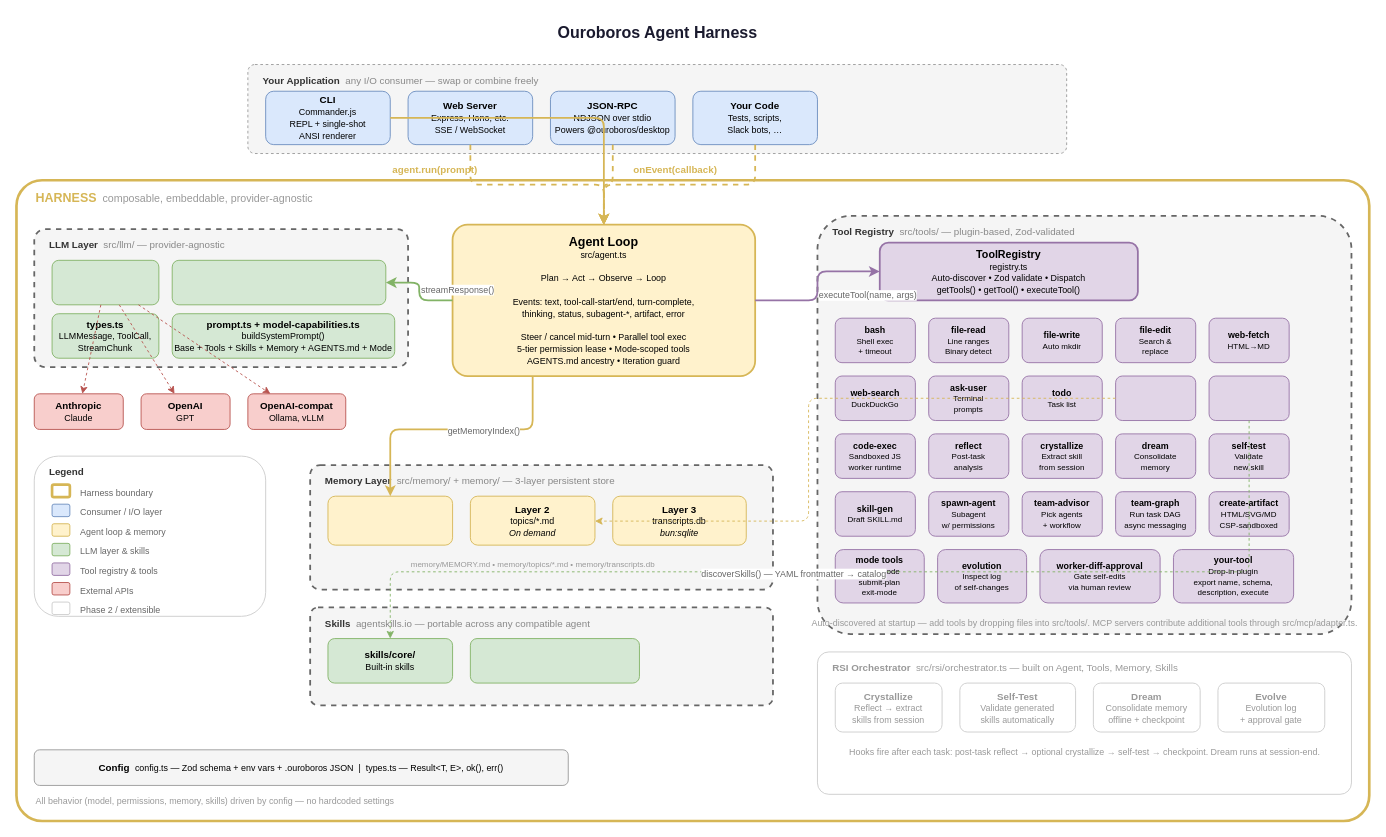
Image size: 1386x837. Some labels were removed from this diagram. The centre of each missing label's shape, as x and y in pixels:
"Layer 1 MEMORY.md Always loaded" belongs at point 390,520.
"memory MEMORY.md Topics, Search" belongs at point 1155,398.
"provider.ts createProvider() Vercel AI SDK" belongs at point 105,282.
"skill-manager Discover, Activate Deactivate, Info" belongs at point 1248,398.
"skills/generated/ Validated self-generated (RSI layer)" belongs at point 554,660.
"streaming.ts + reasoning.ts streamResponse() Reasoning & tool deltas" belongs at point 278,282.
